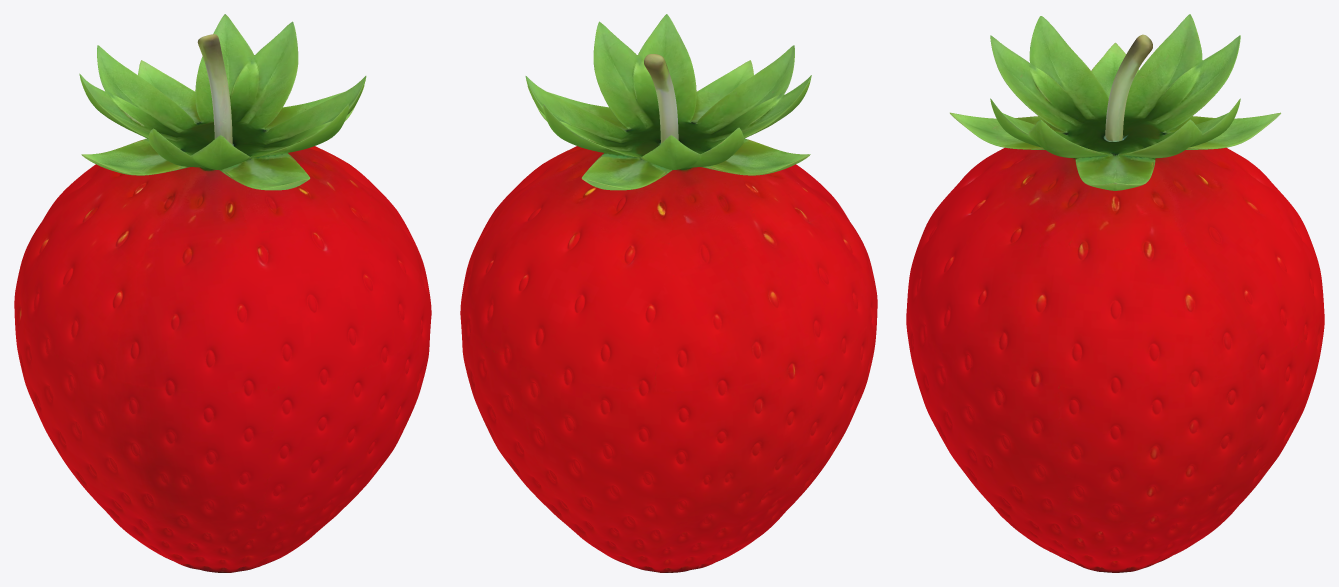
File: Fragola.glb
The picture shows the model from 3 angles, left to right: view 1: azimuth 30°, elevation 25°; view 2: azimuth 150°, elevation 25°; view 3: azimuth 270°, elevation 25°; orthographic projection.
Size of the model in its own units: 1.37 by 1.9 by 1.37.
1 material, 1 textured.
